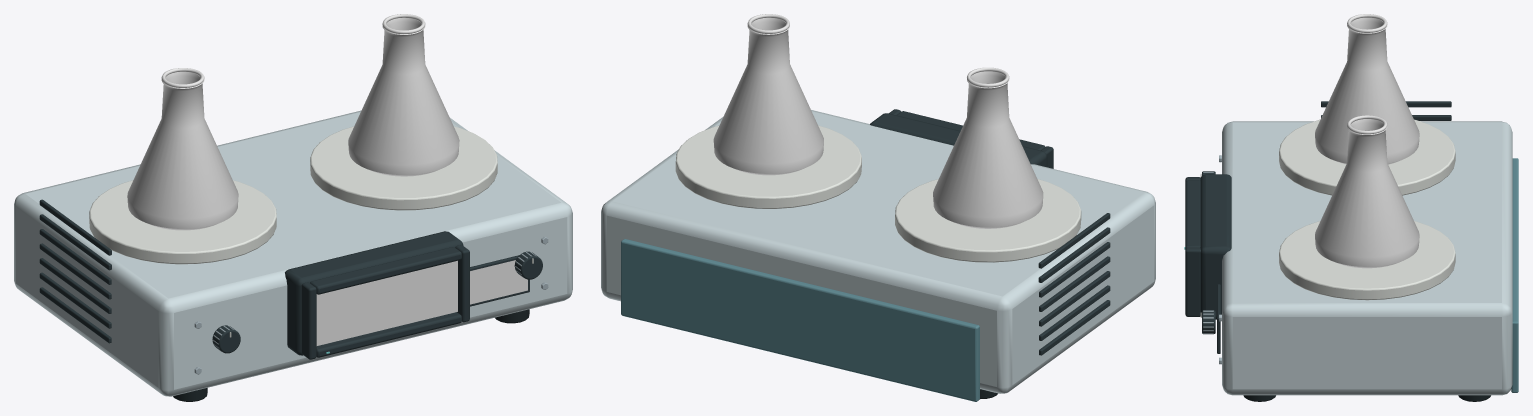
File: ID_DualMagneticStirrer.fbx
3 views of the same model, side by side, from view 1: azimuth 30°, elevation 25°; view 2: azimuth 150°, elevation 25°; view 3: azimuth 270°, elevation 25° (orthographic). The views are drawn at different scales.
Visible parts, largest first — view 1: ID_DualMagneticStirrer; view 2: ID_DualMagneticStirrer; view 3: ID_DualMagneticStirrer.
Part boxes in pixels (box(x1,y1,x2,y2)): ID_DualMagneticStirrer: box(14, 14, 572, 401); ID_DualMagneticStirrer: box(601, 14, 1155, 401); ID_DualMagneticStirrer: box(1184, 14, 1518, 401).
Size of the model in its own units: 71.5 by 43.5 by 53.
